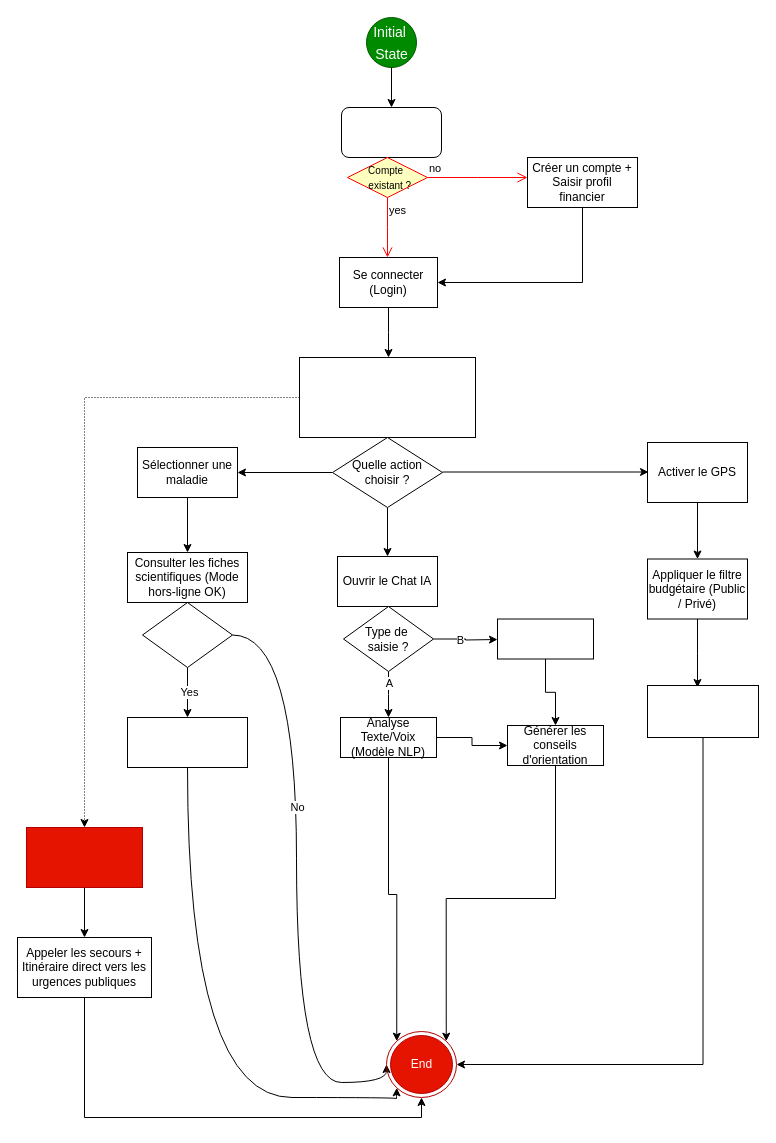
This 776x1143 diagram has some shape labels left out. Each missing label, with the box of its shape:
Afficher l'itinéraire vers l'hôpital sur la carte: (646, 684, 758, 738)
Afficher le tri des soins par couleurs (Rouge, Orange, Gris): (126, 716, 248, 768)
Analyse photo (Modèle de Vision): (496, 618, 594, 659)
Calculer le budget ?: (142, 602, 232, 668)
Cliquer sur le bouton SOS Permanent: (26, 826, 142, 888)
Ouvrir PathoAtlas & Sélectionner la langue: (340, 106, 442, 158)
Tableau de Bord Principal (Dashboard): (298, 356, 476, 438)
